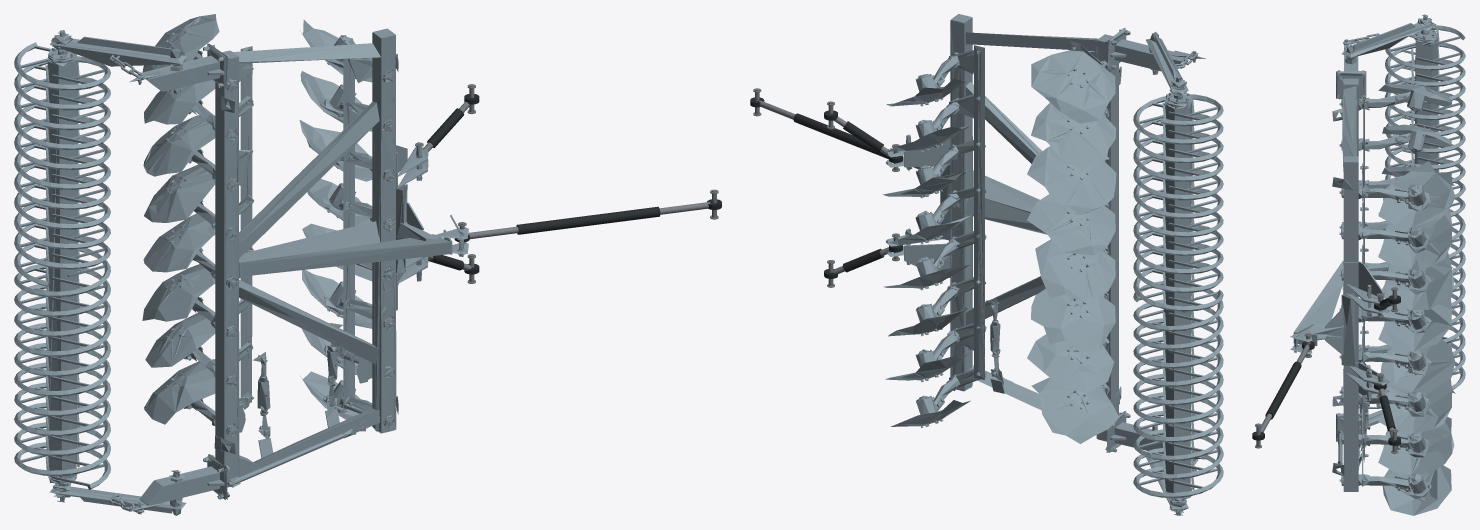
File: implement_mounted_disc_harrow_visual.obj
3 renders of one model, left to right at view 1: azimuth 30°, elevation 25°; view 2: azimuth 150°, elevation 25°; view 3: azimuth 270°, elevation 25°, orthographic. The views are drawn at different scales.
Visible parts, largest first — view 1: solid_786, solid_787, solid_16, solid_783, solid_7, solid_4, solid_38, solid_3, solid_769, solid_767, solid_1382, solid_1472 (+17 smaller); view 2: solid_787, solid_786, solid_783, solid_7, solid_1204, solid_1652, solid_769, solid_1382, solid_1832, solid_1562, solid_1472, solid_1292 (+22 smaller); view 3: solid_787, solid_7, solid_127, solid_479, solid_215, solid_655, solid_391, solid_303, solid_567, solid_743, solid_786, solid_783 (+27 smaller).
Part boxes in pixels (x1,y1,x2,y2): solid_786: [14, 248, 110, 489]; solid_787: [14, 42, 110, 286]; solid_16: [215, 57, 239, 486]; solid_783: [47, 60, 78, 478]; solid_7: [372, 32, 396, 433]; solid_4: [239, 101, 379, 258]; solid_38: [243, 234, 450, 276]; solid_3: [239, 279, 379, 364]; solid_769: [343, 59, 354, 409]; solid_767: [240, 46, 252, 402]; solid_1382: [143, 115, 215, 176]; solid_1472: [144, 164, 215, 222]; solid_787: [1133, 94, 1223, 311]; solid_786: [1133, 281, 1223, 497]; solid_783: [1163, 103, 1191, 492]; solid_7: [950, 17, 972, 391]; solid_1204: [1031, 50, 1115, 123]; solid_1652: [1031, 288, 1115, 352]; solid_769: [974, 45, 984, 379]; solid_1382: [1027, 146, 1116, 215]; solid_1832: [1031, 377, 1119, 443]; solid_1562: [1035, 239, 1115, 302]; solid_1472: [1027, 194, 1115, 255]; solid_1292: [1031, 102, 1116, 168]; solid_787: [1385, 25, 1465, 216]; solid_7: [1343, 157, 1358, 491]; solid_127: [1378, 161, 1455, 228]; solid_479: [1380, 339, 1455, 392]; solid_215: [1378, 211, 1452, 271]; solid_655: [1378, 417, 1454, 474]; solid_391: [1378, 296, 1451, 351]; solid_303: [1382, 252, 1453, 309]; solid_567: [1378, 378, 1452, 433]; solid_743: [1382, 465, 1451, 515]; solid_786: [1386, 209, 1465, 389]; solid_783: [1414, 37, 1438, 172].
Size of the model in its own units: 3.83 by 2.86 by 1.41.
